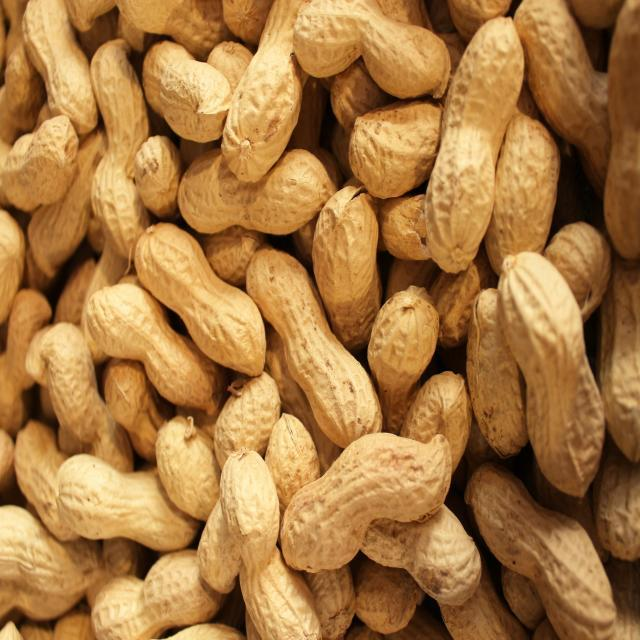Frutta secca: (15, 17, 629, 623), (133, 223, 271, 379)
